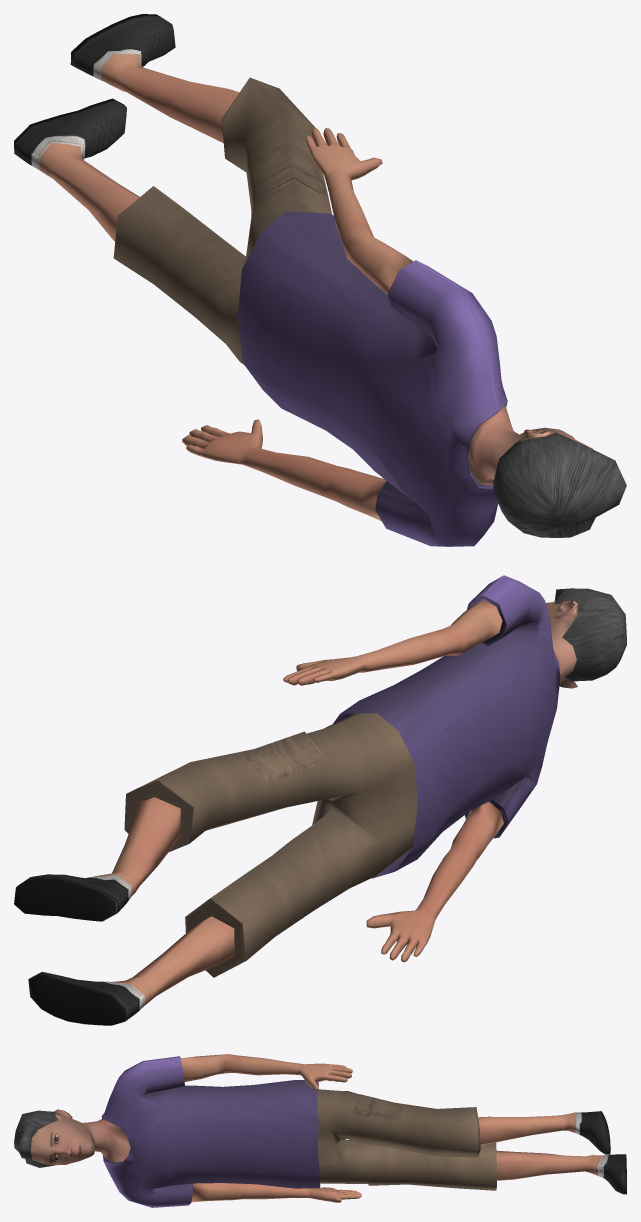
Rendered from walk.obj.
The picture shows the model from 3 angles, top to bottom: view 1: azimuth 30°, elevation 25°; view 2: azimuth 150°, elevation 25°; view 3: azimuth 270°, elevation 25°; orthographic projection. The views are drawn at different scales.
Size of the model in its own units: 0.4103 by 0.5102 by 1.78.
1 material, 1 textured.
